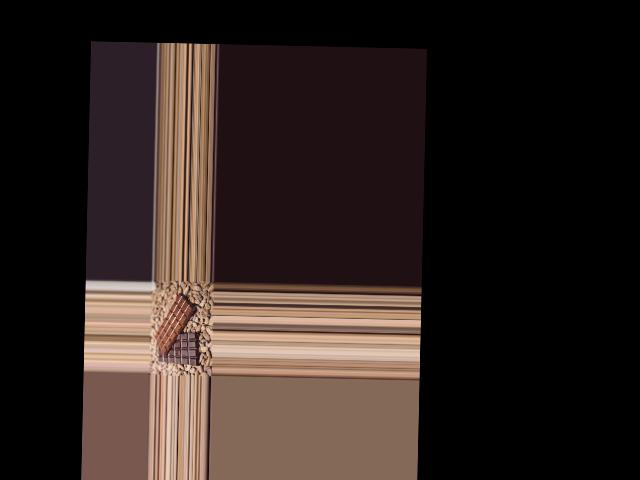chocolate: (155, 331, 202, 369)
